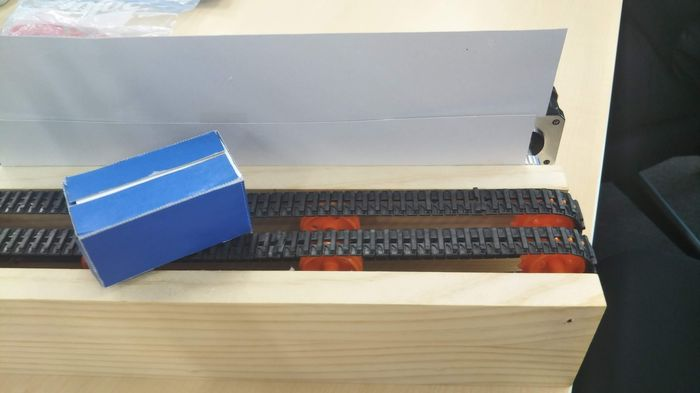box3: (60, 128, 255, 289)
